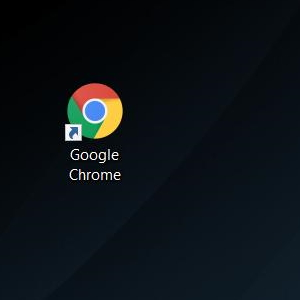chrome: (64, 83, 123, 141)
